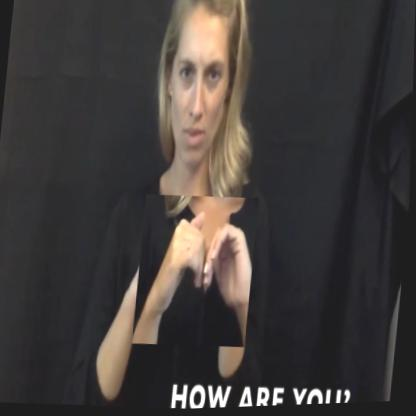HowAreYou: (134, 192, 260, 353)
